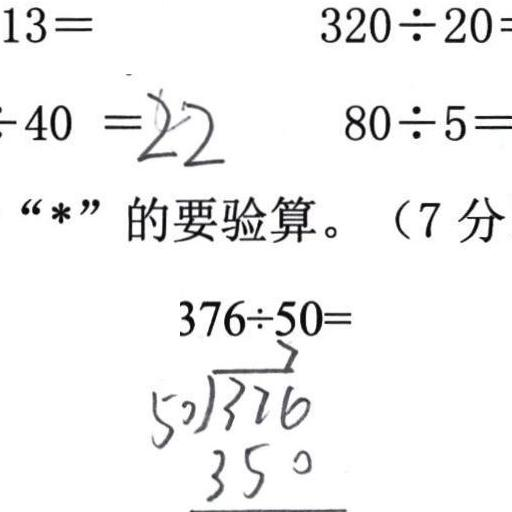ans: (132, 84, 223, 169)
